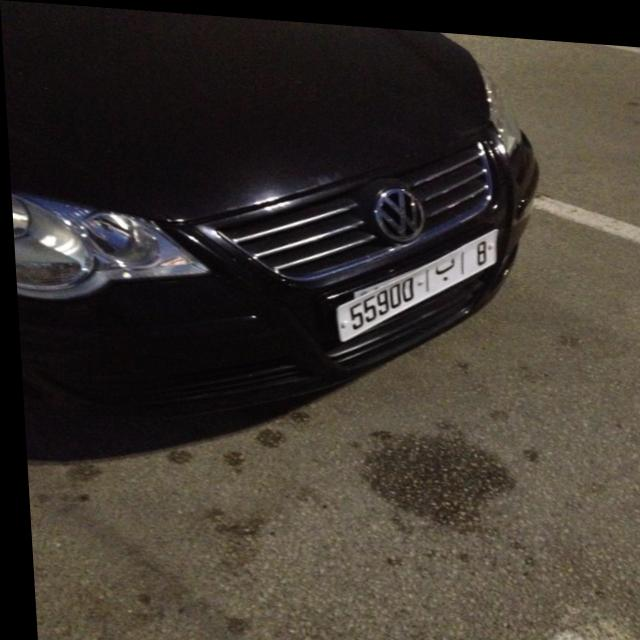License-Plate: (332, 222, 495, 336)
